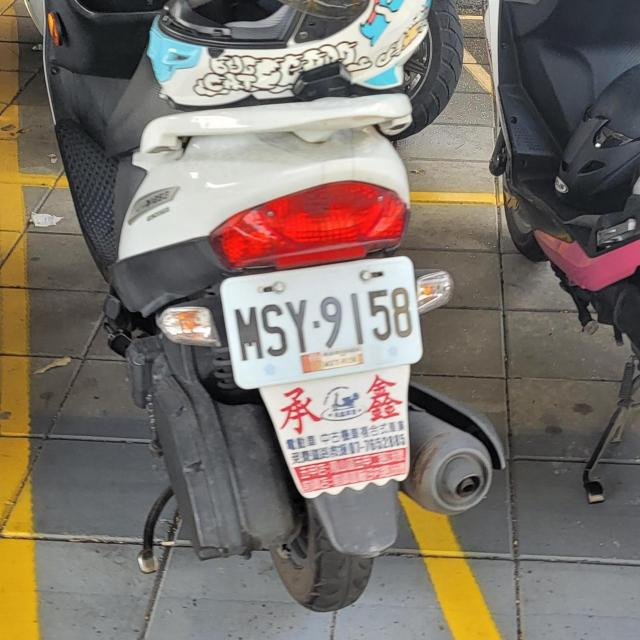W: (215, 250, 427, 390)
